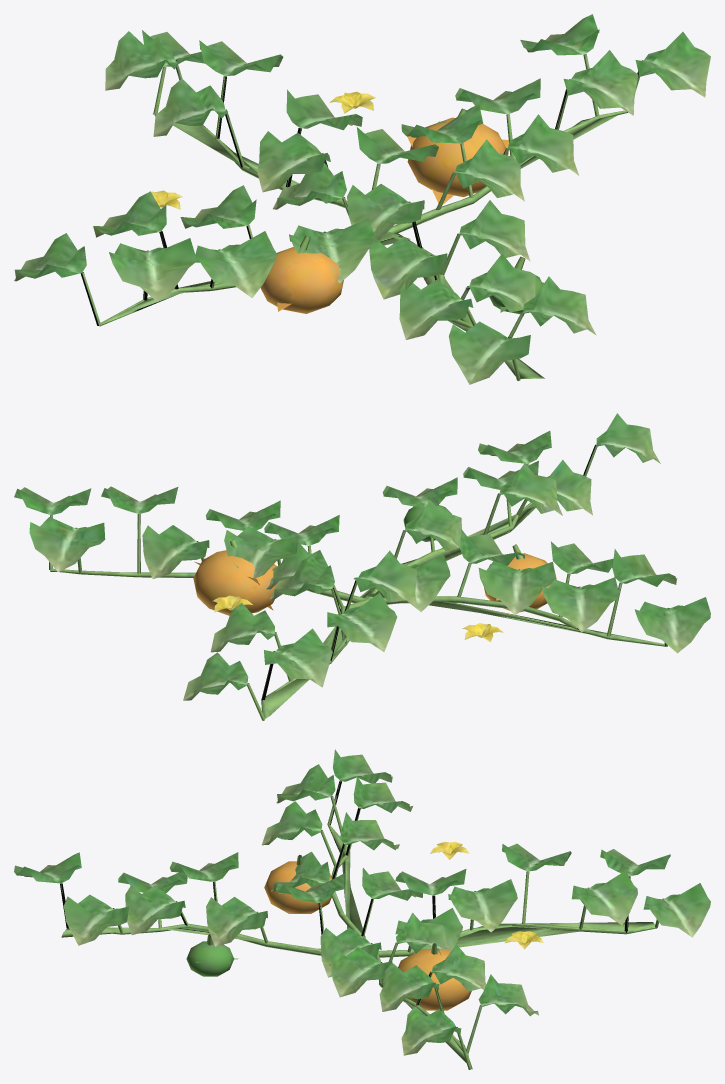
File: calabaza.glb
The picture shows the model from 3 angles, top to bottom: view 1: azimuth 30°, elevation 25°; view 2: azimuth 150°, elevation 25°; view 3: azimuth 270°, elevation 25°; orthographic projection. The views are drawn at different scales.
Visible parts, largest first — view 1: calabaza, calabaza_lp; view 2: calabaza, calabaza_lp; view 3: calabaza, calabaza_lp.
Part boxes in pixels (x1,y1,x2,y2): calabaza: (14,14,710,384); calabaza_lp: (81,54,642,379); calabaza: (14,413,710,720); calabaza_lp: (50,445,669,720); calabaza: (14,749,710,1069); calabaza_lp: (60,781,663,1069).
Bounding box in the file's own units: 2.31 × 0.3133 × 2.33.
Materials: 2 (2 with a texture image).
